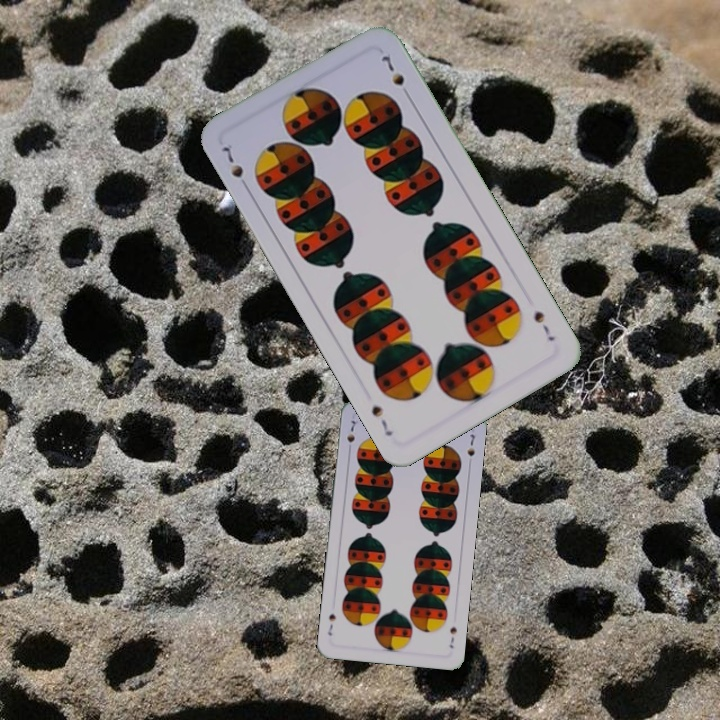S7: (218, 141, 252, 194), (530, 306, 558, 344), (343, 416, 358, 455), (446, 623, 459, 651)
